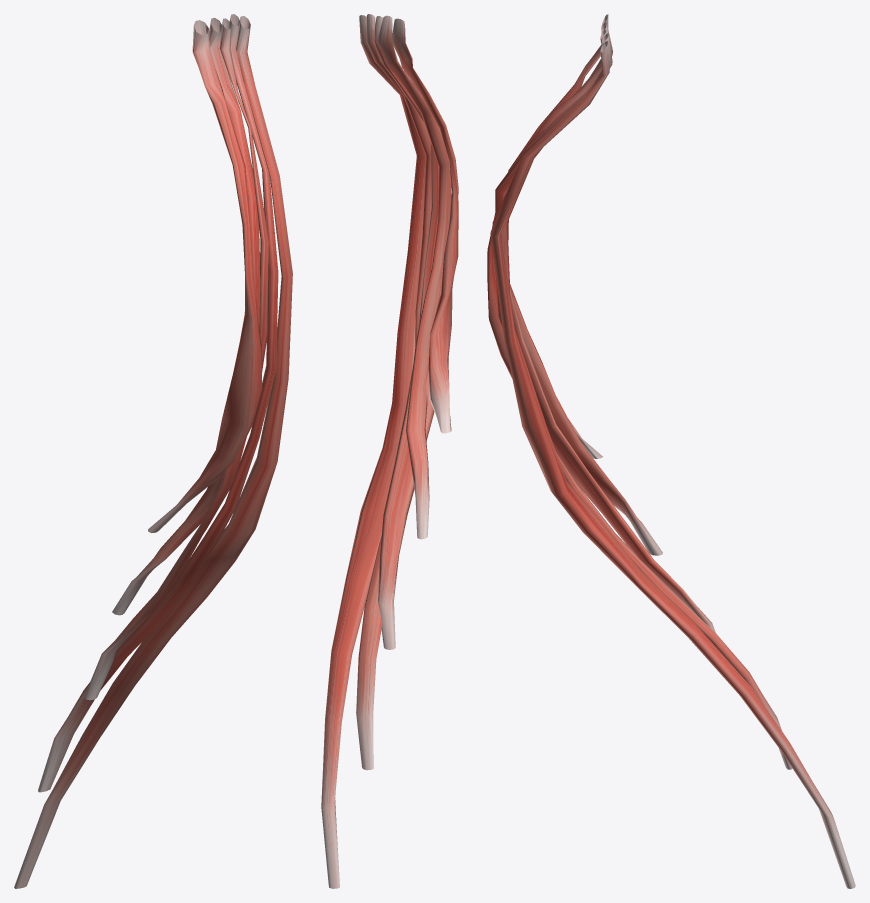
Rendered from Semispinalis_Capitis_Muscle_Right.obj.
3 views of the same model, side by side, from view 1: azimuth 30°, elevation 25°; view 2: azimuth 150°, elevation 25°; view 3: azimuth 270°, elevation 25° (orthographic). The views are drawn at different scales.
Visible parts, largest first — view 1: Semispinalis_Capitis_Muscle_Right_01:Semispinalis_Capitis_Muscle, Semispinalis_Capitis_Muscle_Right_02:Semispinalis_Capitis_Muscle, Semispinalis_Capitis_Muscle_Right_05:Semispinalis_Capitis_Muscle, Semispinalis_Capitis_Muscle_Right_03:Semispinalis_Capitis_Muscle, Semispinalis_Capitis_Muscle_Right_04:Semispinalis_Capitis_Muscle; view 2: Semispinalis_Capitis_Muscle_Right_01:Semispinalis_Capitis_Muscle, Semispinalis_Capitis_Muscle_Right_04:Semispinalis_Capitis_Muscle, Semispinalis_Capitis_Muscle_Right_03:Semispinalis_Capitis_Muscle, Semispinalis_Capitis_Muscle_Right_02:Semispinalis_Capitis_Muscle, Semispinalis_Capitis_Muscle_Right_05:Semispinalis_Capitis_Muscle; view 3: Semispinalis_Capitis_Muscle_Right_01:Semispinalis_Capitis_Muscle, Semispinalis_Capitis_Muscle_Right_03:Semispinalis_Capitis_Muscle, Semispinalis_Capitis_Muscle_Right_02:Semispinalis_Capitis_Muscle, Semispinalis_Capitis_Muscle_Right_04:Semispinalis_Capitis_Muscle, Semispinalis_Capitis_Muscle_Right_05:Semispinalis_Capitis_Muscle.
Part boxes in pixels (<box>): Semispinalis_Capitis_Muscle_Right_01:Semispinalis_Capitis_Muscle: <box>14,16,292,888</box>; Semispinalis_Capitis_Muscle_Right_02:Semispinalis_Capitis_Muscle: <box>38,14,278,792</box>; Semispinalis_Capitis_Muscle_Right_05:Semispinalis_Capitis_Muscle: <box>148,20,262,532</box>; Semispinalis_Capitis_Muscle_Right_03:Semispinalis_Capitis_Muscle: <box>84,18,268,700</box>; Semispinalis_Capitis_Muscle_Right_04:Semispinalis_Capitis_Muscle: <box>112,17,260,615</box>; Semispinalis_Capitis_Muscle_Right_01:Semispinalis_Capitis_Muscle: <box>321,15,425,888</box>; Semispinalis_Capitis_Muscle_Right_04:Semispinalis_Capitis_Muscle: <box>377,15,451,539</box>; Semispinalis_Capitis_Muscle_Right_03:Semispinalis_Capitis_Muscle: <box>374,16,438,649</box>; Semispinalis_Capitis_Muscle_Right_02:Semispinalis_Capitis_Muscle: <box>356,14,431,770</box>; Semispinalis_Capitis_Muscle_Right_05:Semispinalis_Capitis_Muscle: <box>392,18,458,433</box>; Semispinalis_Capitis_Muscle_Right_01:Semispinalis_Capitis_Muscle: <box>490,41,855,888</box>; Semispinalis_Capitis_Muscle_Right_03:Semispinalis_Capitis_Muscle: <box>495,29,715,632</box>; Semispinalis_Capitis_Muscle_Right_02:Semispinalis_Capitis_Muscle: <box>492,33,792,769</box>; Semispinalis_Capitis_Muscle_Right_04:Semispinalis_Capitis_Muscle: <box>509,21,662,555</box>; Semispinalis_Capitis_Muscle_Right_05:Semispinalis_Capitis_Muscle: <box>487,14,608,458</box>.
Size of the model in its own units: 0.282 by 2.24 by 0.8369.
